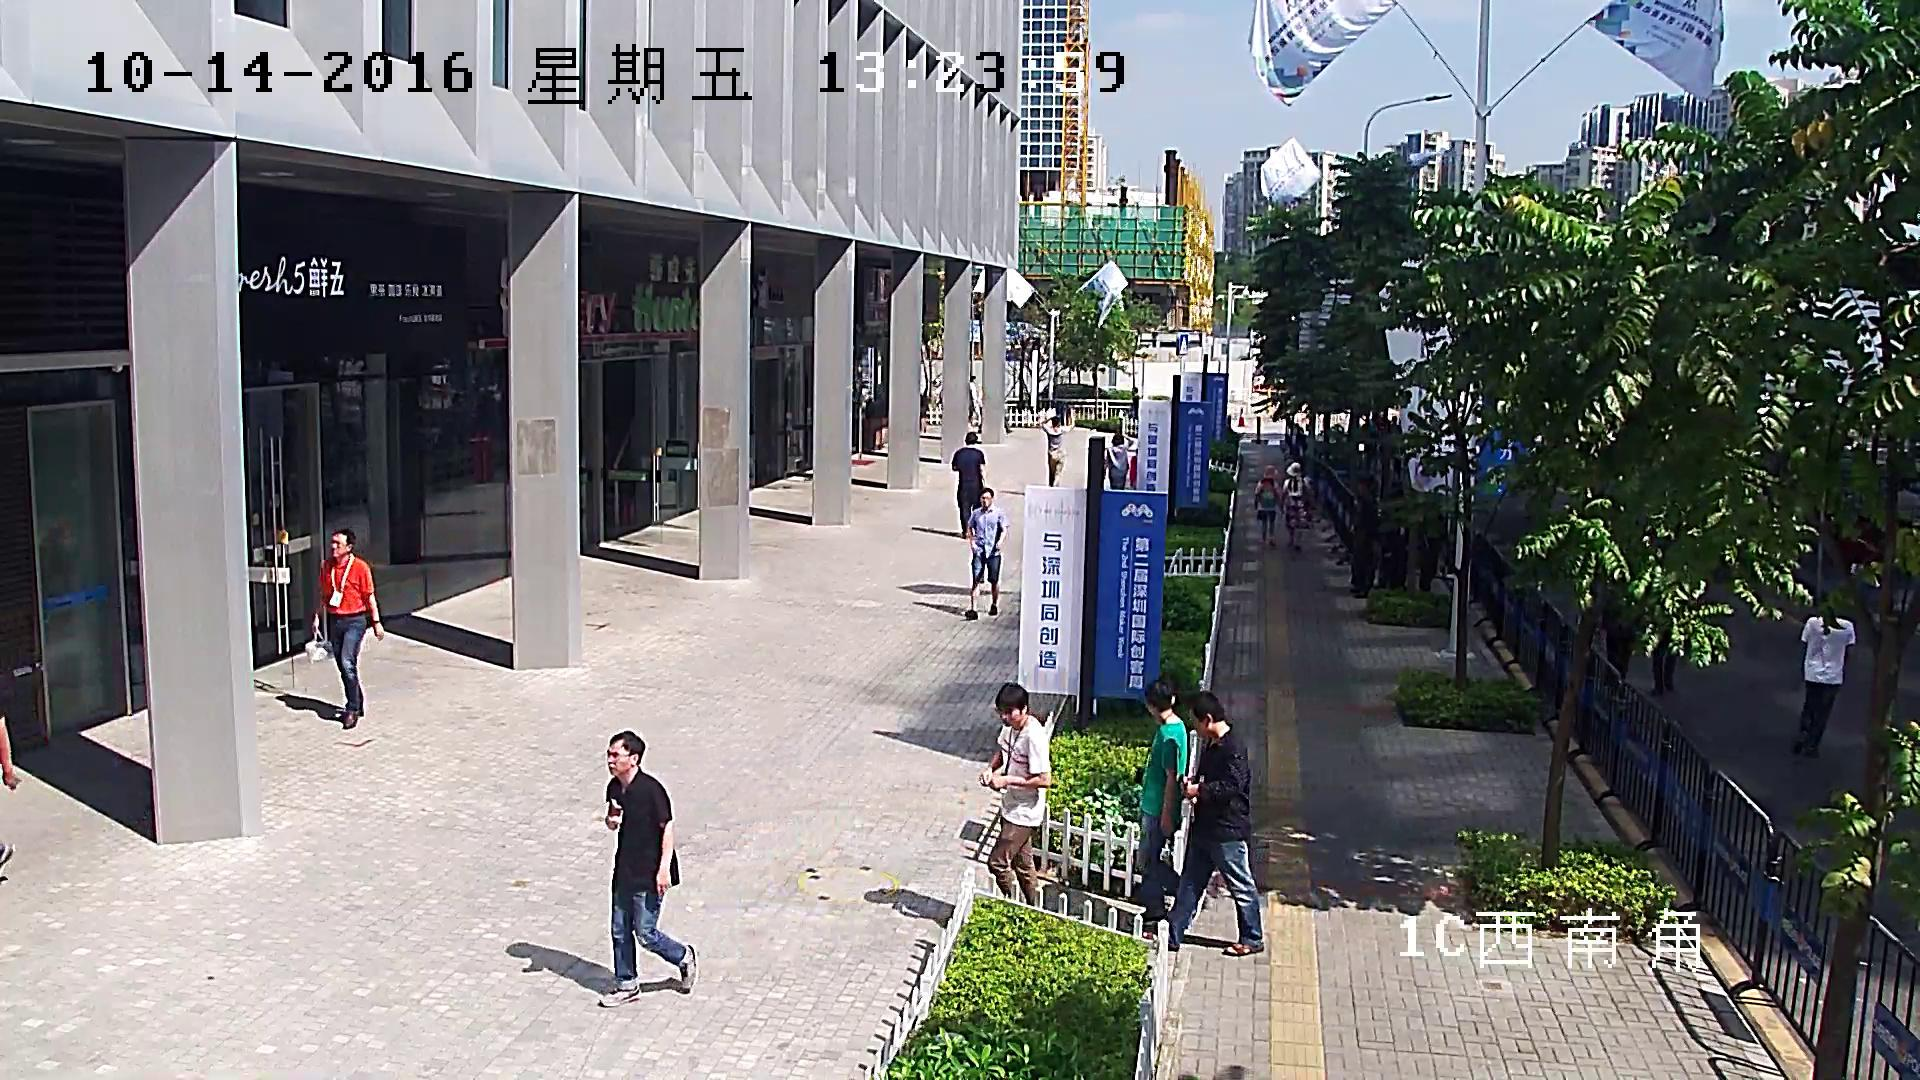person: (1142, 691, 1264, 954), (599, 731, 696, 1009), (976, 683, 1050, 904), (306, 531, 385, 728), (1140, 681, 1187, 928), (1796, 615, 1857, 760), (964, 487, 1008, 622), (953, 432, 984, 533), (1280, 462, 1314, 551), (1040, 408, 1076, 486), (1253, 462, 1285, 545), (1646, 632, 1684, 696), (1105, 436, 1132, 487), (966, 374, 979, 428)
